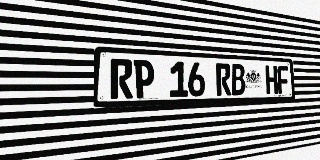1: (169, 61, 188, 97)
6: (188, 62, 205, 97)
B: (231, 64, 245, 95)
F: (277, 66, 289, 94)
H: (265, 65, 278, 94)
P: (133, 59, 154, 98)
R: (110, 58, 133, 99), (216, 63, 231, 96)
